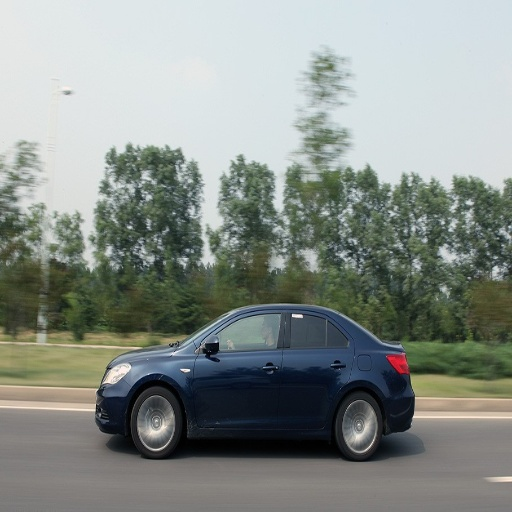back_left_door: (280, 310, 351, 427)
front_left_door: (193, 310, 283, 426)
